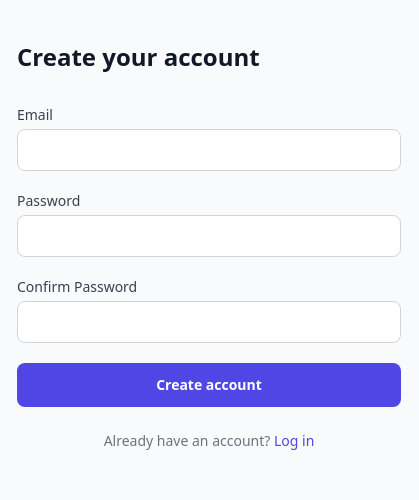
RegisterPage › shows client-side error when passwords do not match
Type "user@test.com" into the field labelled "Email" at (209, 150), box [17, 129, 401, 171]
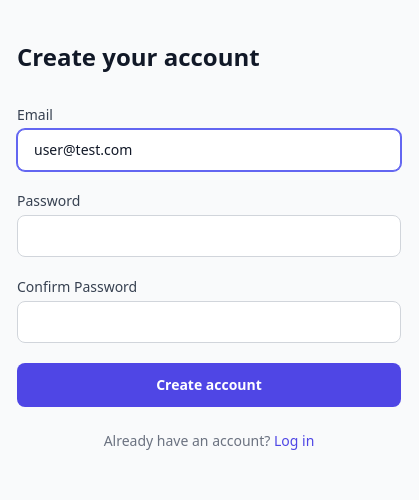
Type "Password1" into the password field labelled "Password" at (209, 236), box [17, 215, 401, 257]
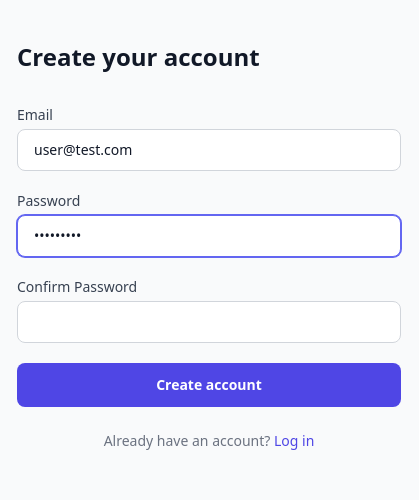
Type "Different1" into the password field labelled "Confirm Password" at (209, 322), box [17, 301, 401, 343]
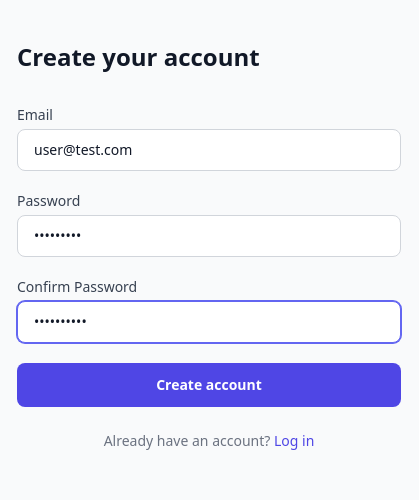
Click the button "Create account" at (209, 385), box [17, 363, 401, 407]
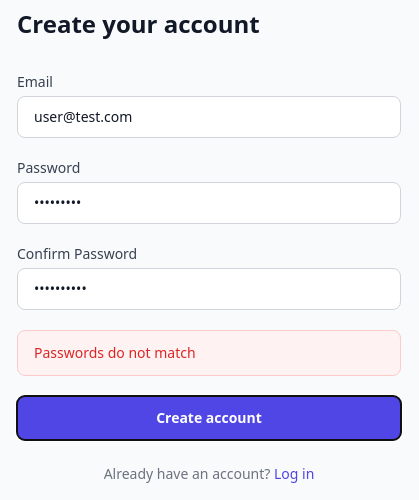
Expected: the text "Passwords do not match" is shown, [17, 330, 401, 376]
